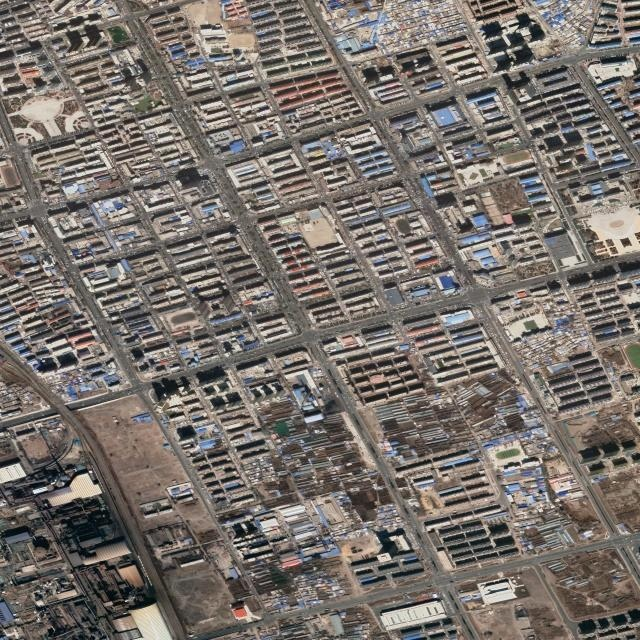coal_fired_power_plant: (0, 455, 175, 640)
